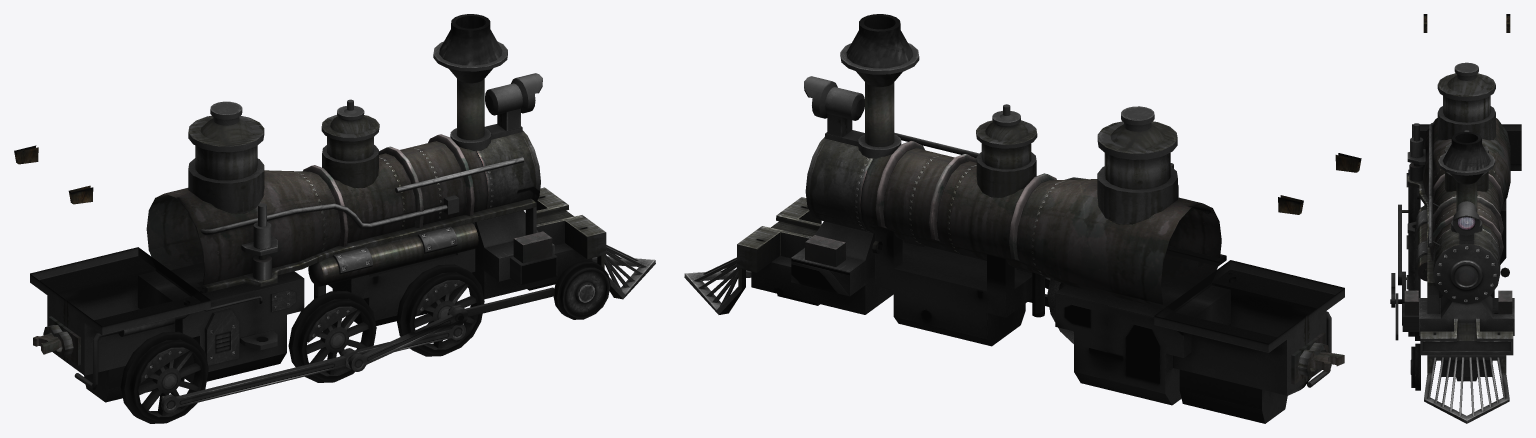
The model's file is Locomotive_Fix_v02.fbx.
3 renders of one model, left to right at view 1: azimuth 30°, elevation 25°; view 2: azimuth 150°, elevation 25°; view 3: azimuth 270°, elevation 25°, orthographic. The views are drawn at different scales.
Parts seen in each view (by area): view 1: Cube.226; view 2: Cube.226; view 3: Cube.226.
Part boxes in pixels (bbox=[...]): Cube.226: bbox=[14, 14, 655, 423]; Cube.226: bbox=[684, 14, 1361, 423]; Cube.226: bbox=[1390, 14, 1521, 423].
Size of the model in its own units: 1444 by 655 by 350.
